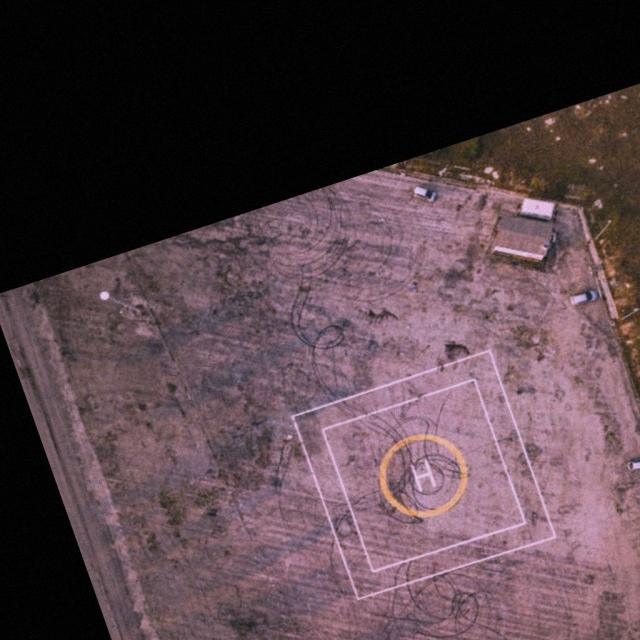helipad: (376, 430, 470, 520)
